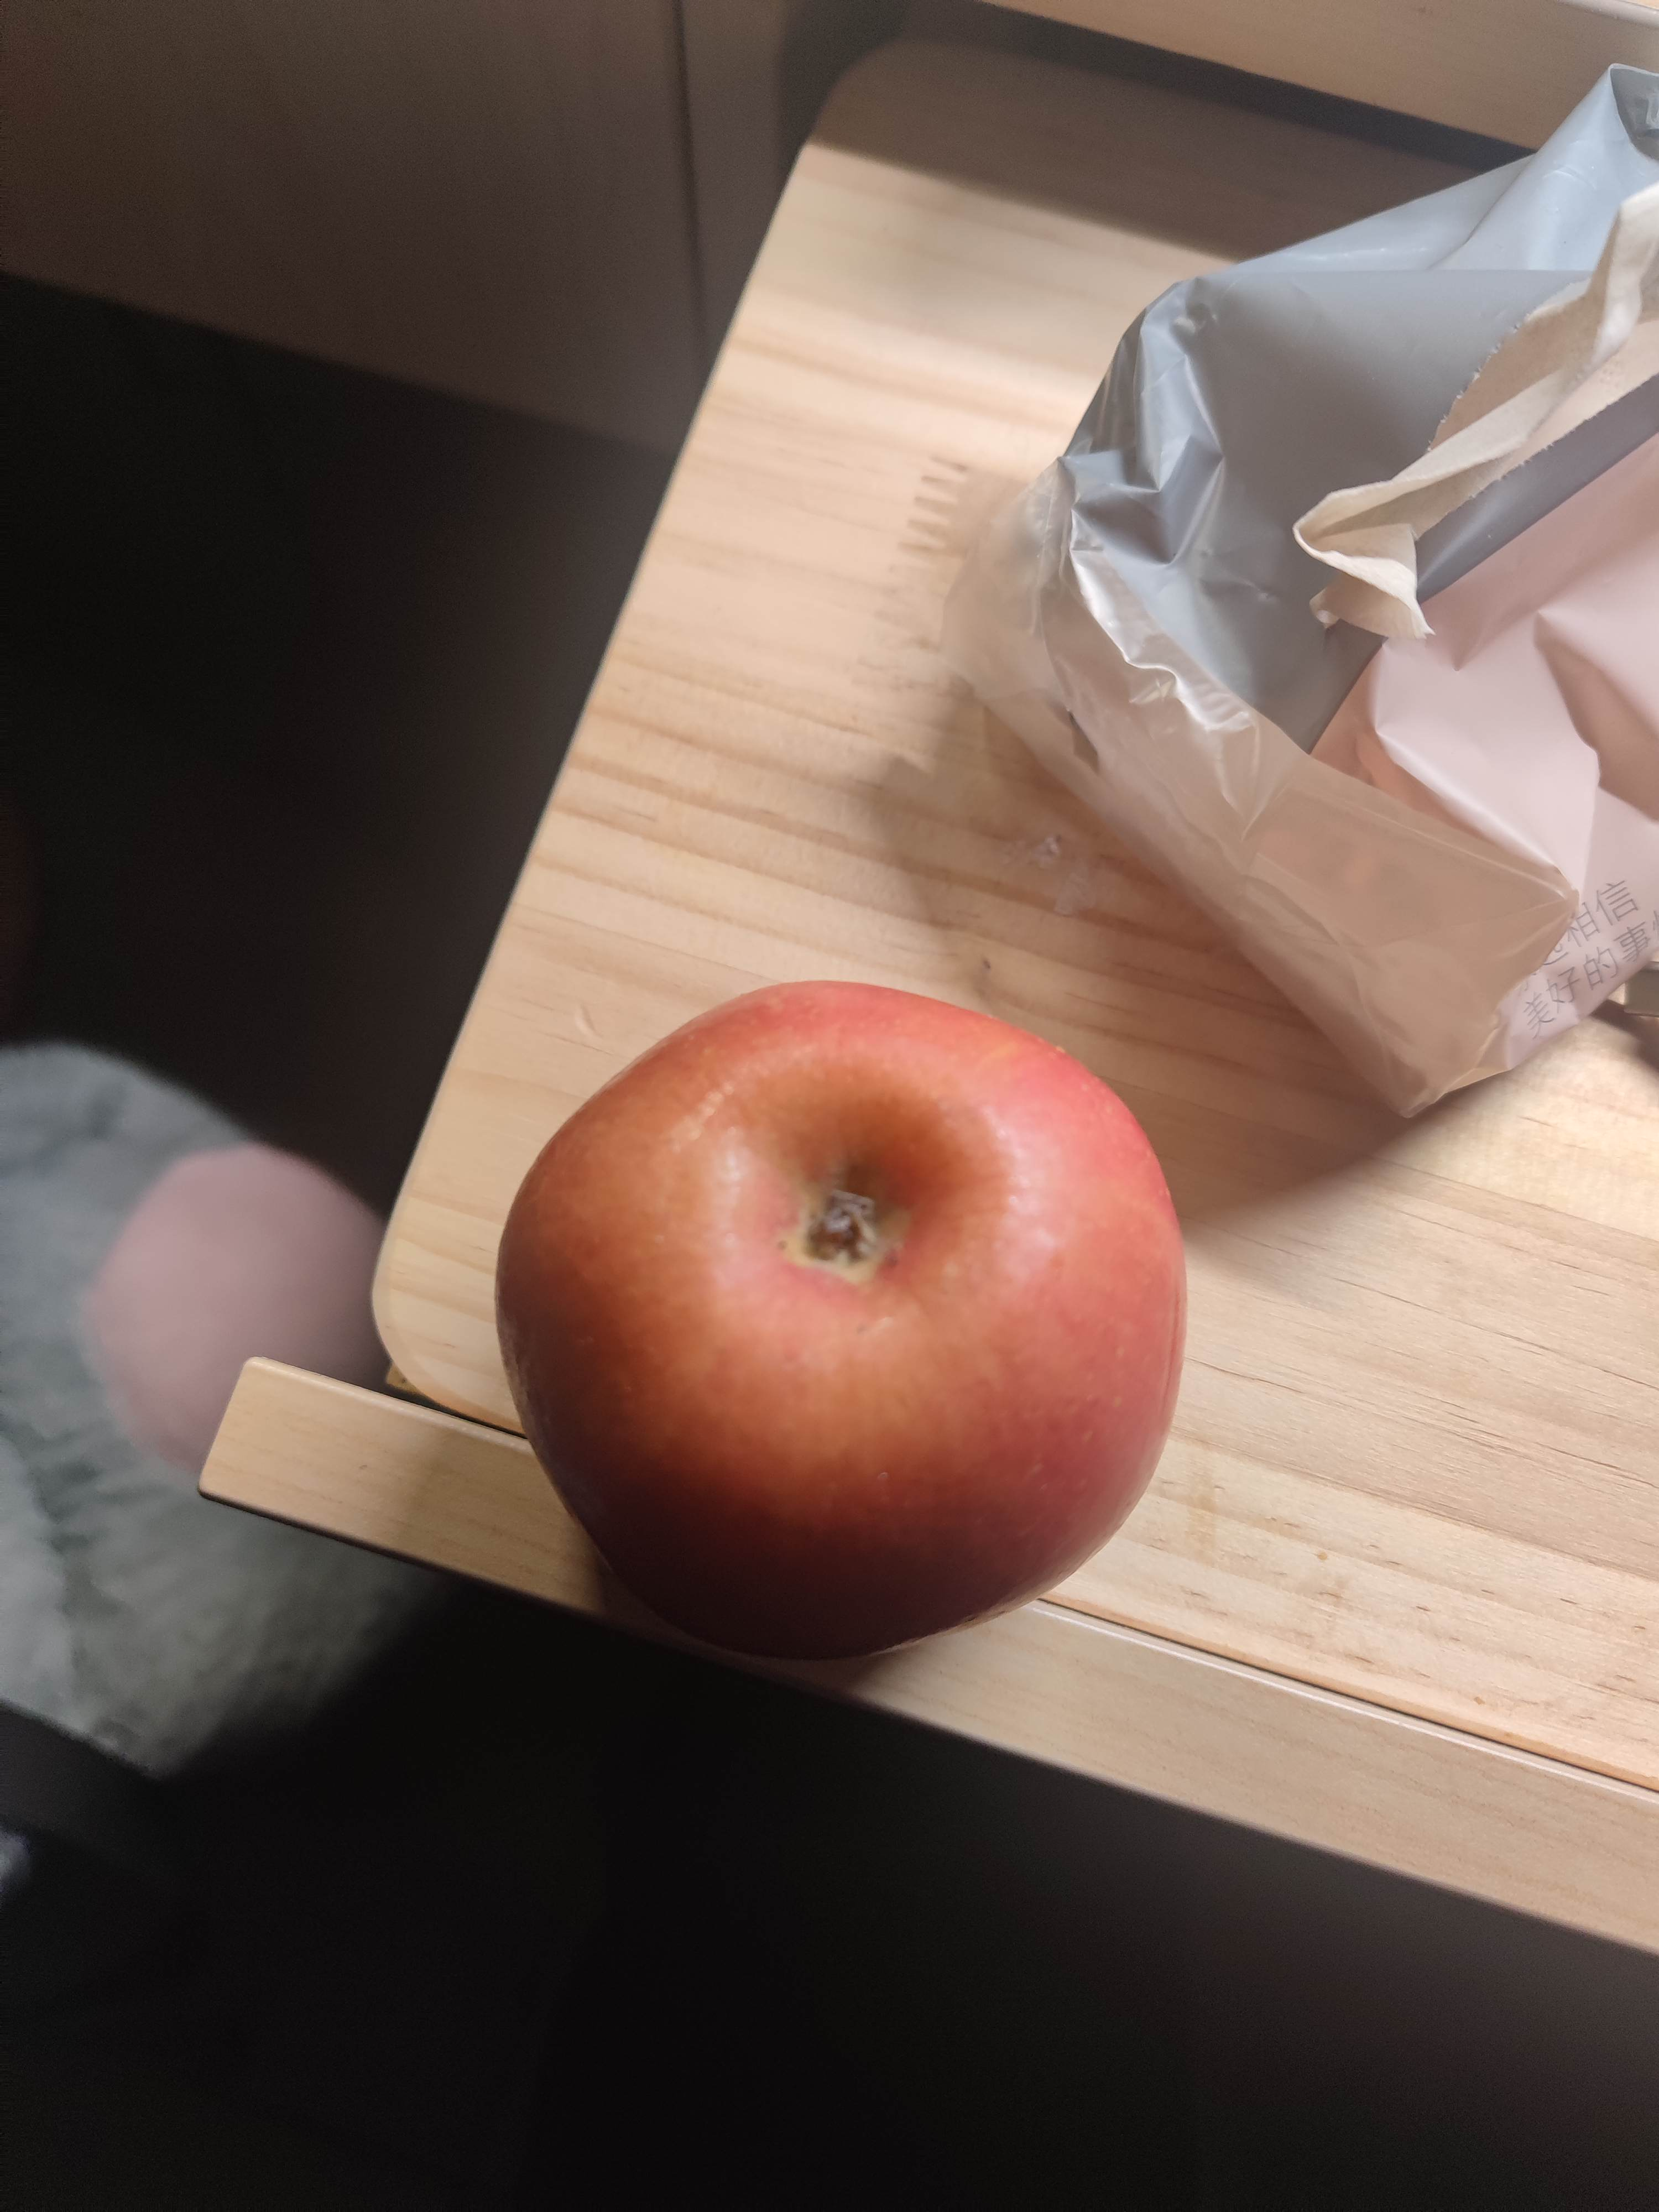apple: (497, 982, 1190, 1653)
